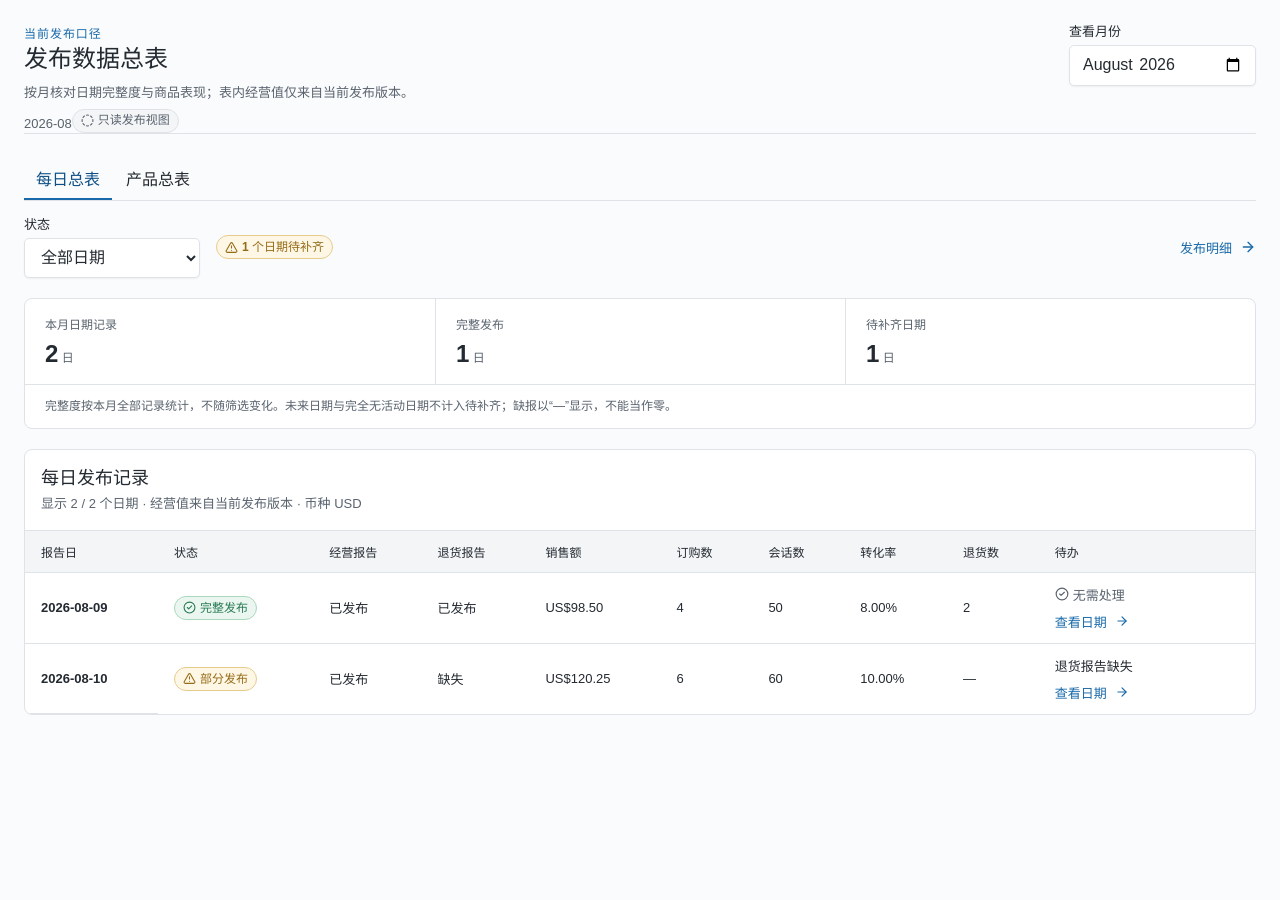
Test: clears previous month values while the next month loads and rejects late responses
Expected: the text "2026-08-10" is shown, x1=41 y1=671 x2=108 y2=686
Replace the text in the field named "统计月份" with "2026-07". click: coordinates (1162, 65)
box: x1=1069 y1=45 x2=1256 y2=86
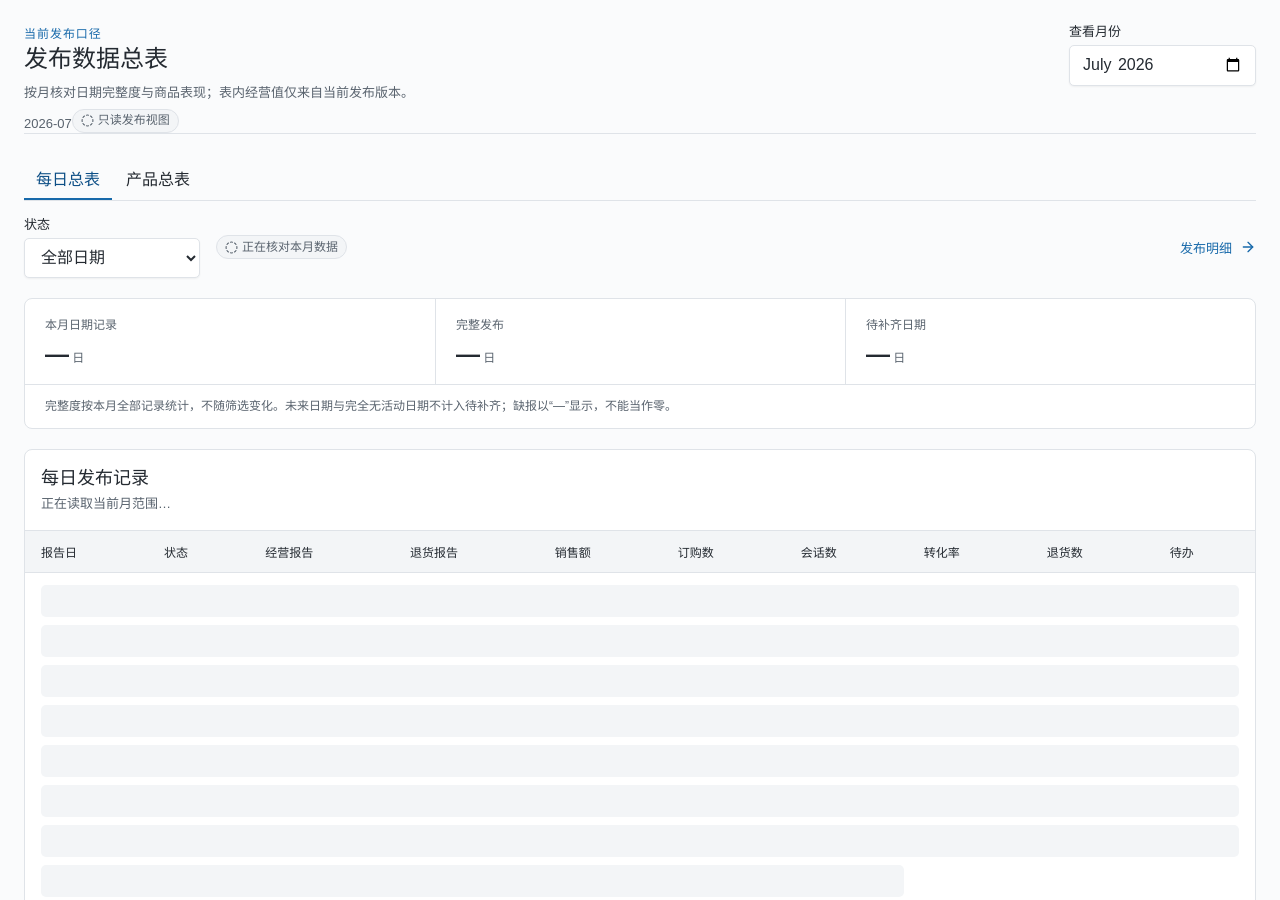
Expected: the text "2026-08-10" is gone
Expected: the text "正在核对本月数据" is shown, x1=242 y1=239 x2=338 y2=256
Replace the text in the field named "统计月份" with "2026-06". click: coordinates (1162, 65)
box: x1=1069 y1=45 x2=1256 y2=86
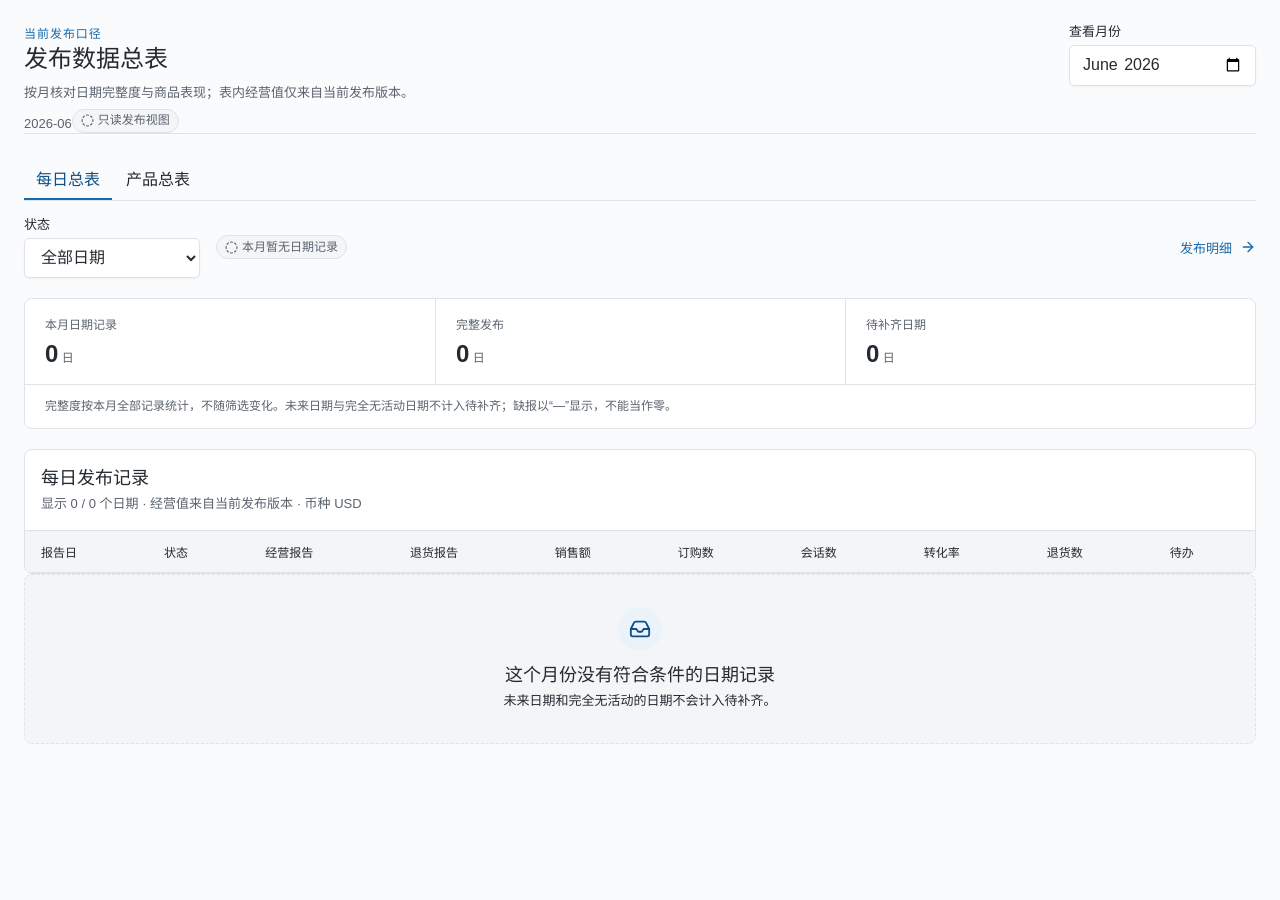
Expected: the text "2026-08-10" is not shown
Expected: the heading "这个月份没有符合条件的日期记录" is shown, x1=504 y1=663 x2=776 y2=687
